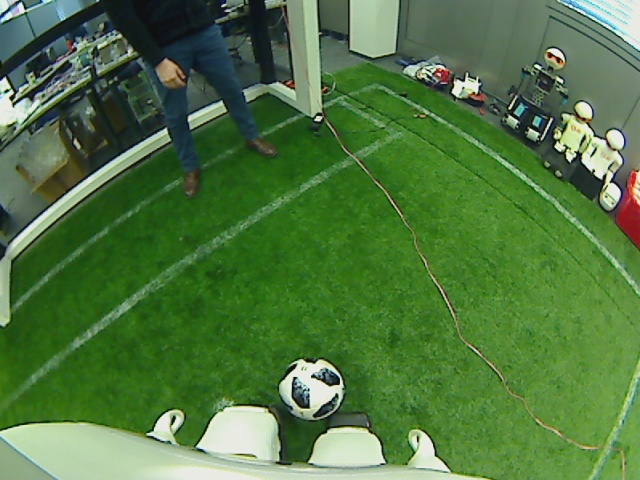ball: (274, 355, 348, 423)
